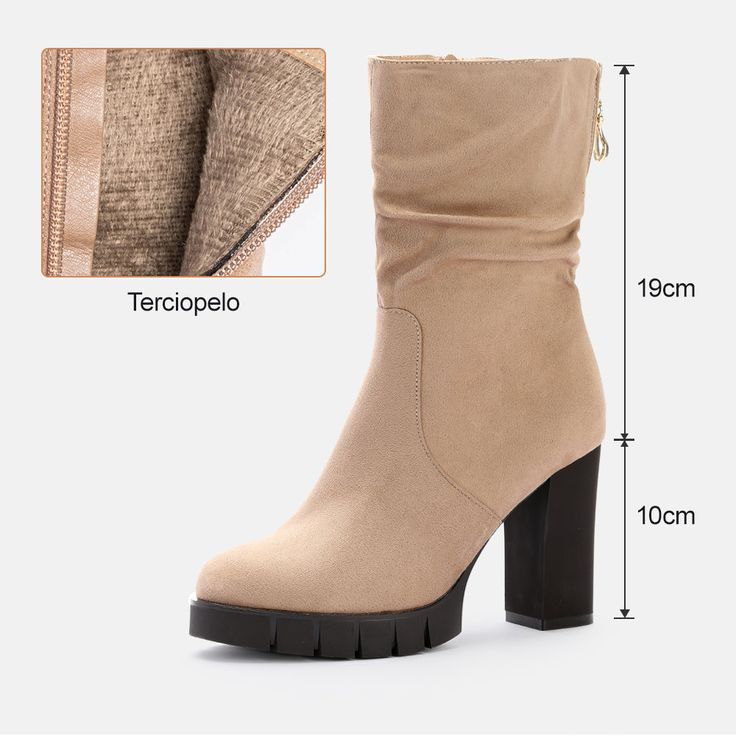gamuza: (195, 53, 605, 616)
